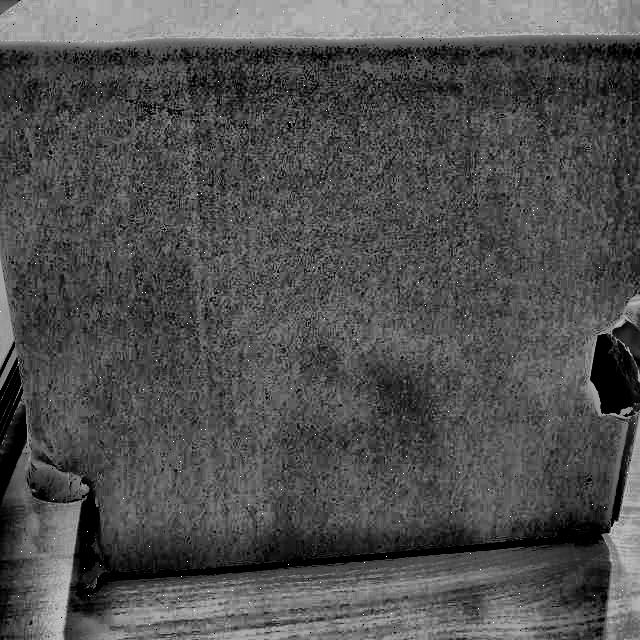box: (0, 0, 639, 598)
hole: (19, 459, 100, 574), (589, 283, 639, 429)
